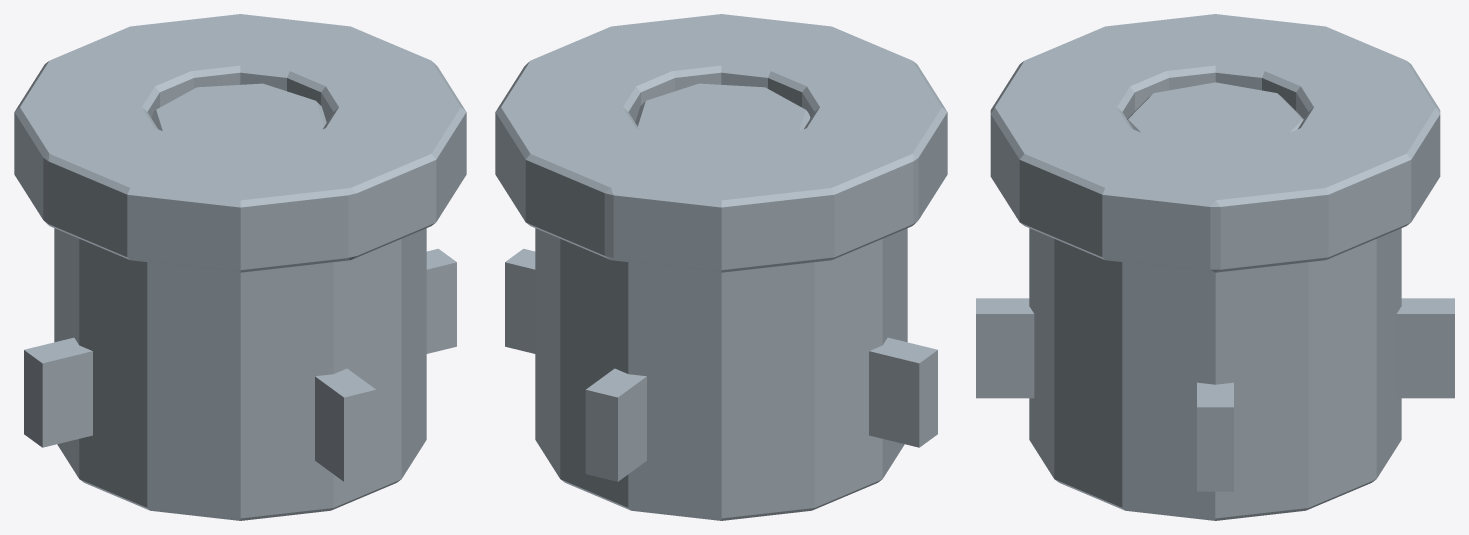
File: Rail_Muzzle.fbx
3 renders of one model, left to right at view 1: azimuth 30°, elevation 25°; view 2: azimuth 150°, elevation 25°; view 3: azimuth 270°, elevation 25°, orthographic.
Visible parts, largest first — view 1: Rail_Muzzle; view 2: Rail_Muzzle; view 3: Rail_Muzzle.
Part boxes in pixels (bbox=[...]): Rail_Muzzle: bbox=[14, 14, 466, 520]; Rail_Muzzle: bbox=[495, 14, 947, 520]; Rail_Muzzle: bbox=[976, 14, 1454, 520].
Size of the model in its own units: 18 by 14 by 18.
